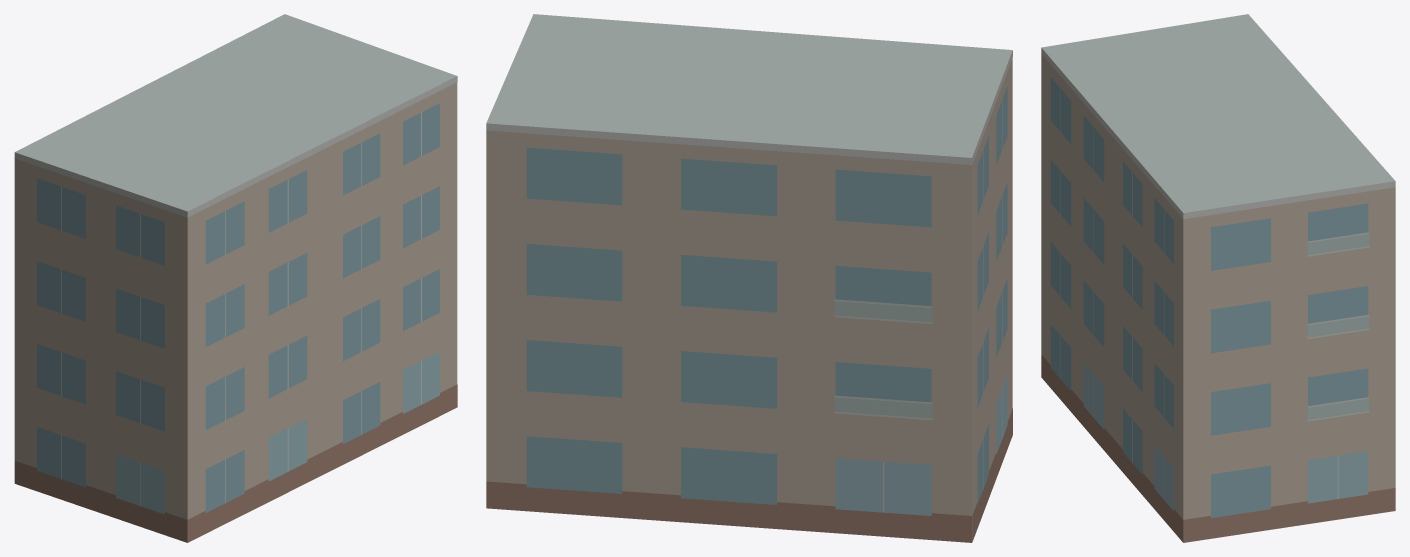
Rendered from survey-upis-33003658.glb.
3 views of the same model, side by side, from view 1: azimuth 30°, elevation 25°; view 2: azimuth 150°, elevation 25°; view 3: azimuth 270°, elevation 25° (orthographic). The views are drawn at different scales.
Visible parts, largest first — view 1: survey-upis-33003658.tmp; view 2: survey-upis-33003658.tmp; view 3: survey-upis-33003658.tmp.
Part boxes in pixels (left/top/right/bottom): survey-upis-33003658.tmp: left=14, top=14, right=457, bottom=542; survey-upis-33003658.tmp: left=486, top=14, right=1012, bottom=542; survey-upis-33003658.tmp: left=1041, top=14, right=1395, bottom=542.
Bounding box in the file's own units: 17.3 × 13.35 × 13.01.
